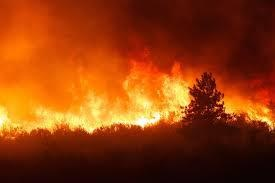fire: (0, 56, 209, 135)
